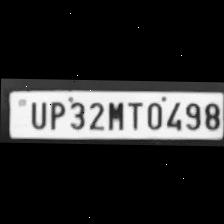0: (142, 99, 162, 130)
2: (84, 98, 104, 130)
3: (64, 98, 86, 130)
4: (162, 98, 182, 130)
8: (199, 100, 221, 131)
9: (180, 99, 202, 130)
M: (103, 97, 125, 130)
P: (44, 98, 66, 130)
T: (124, 99, 144, 130)
U: (25, 97, 47, 128)
